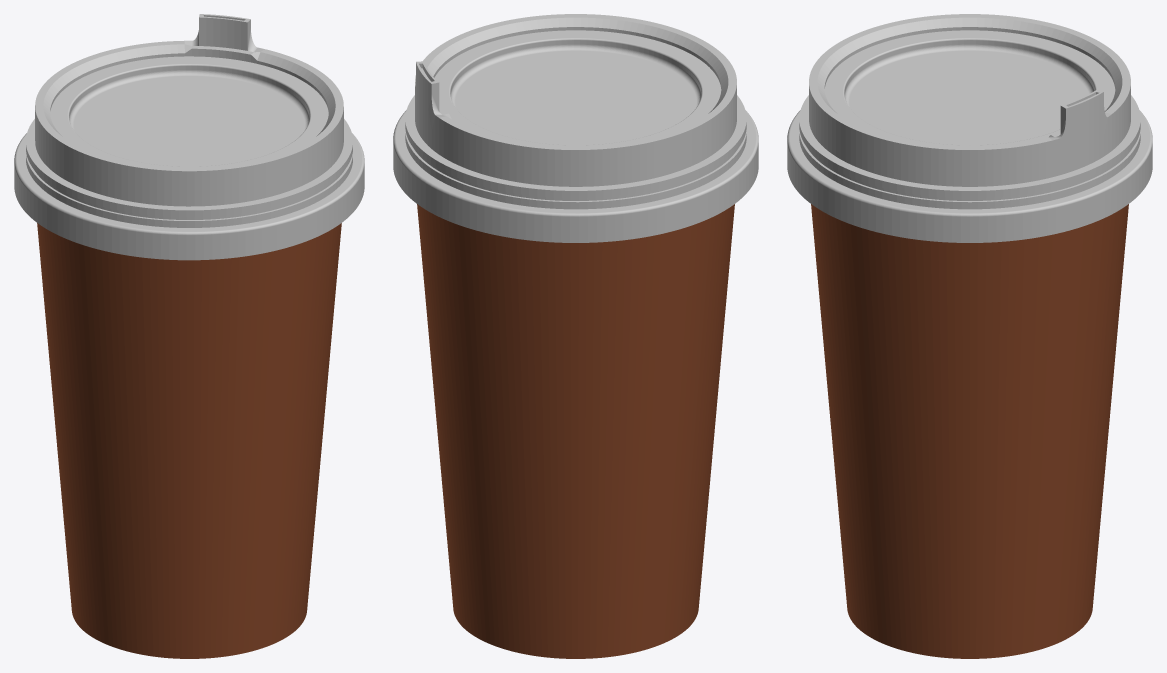
The model's file is bardak.fbx.
3 renders of one model, left to right at view 1: azimuth 30°, elevation 25°; view 2: azimuth 150°, elevation 25°; view 3: azimuth 270°, elevation 25°, orthographic. The views are drawn at different scales.
Parts seen in each view (by area): view 1: glass; view 2: glass; view 3: glass.
Part boxes in pixels (x1,y1,x2,y2): glass: [14, 14, 364, 658]; glass: [393, 14, 758, 658]; glass: [787, 14, 1152, 658].
Bounding box in the file's own units: 11.26 × 18.8 × 11.26.
